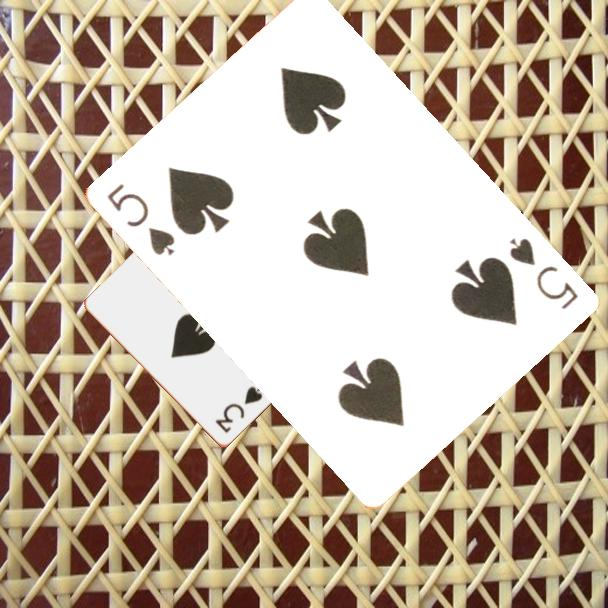s03: (211, 382, 266, 436)
s05: (103, 179, 179, 259), (506, 234, 582, 313)
